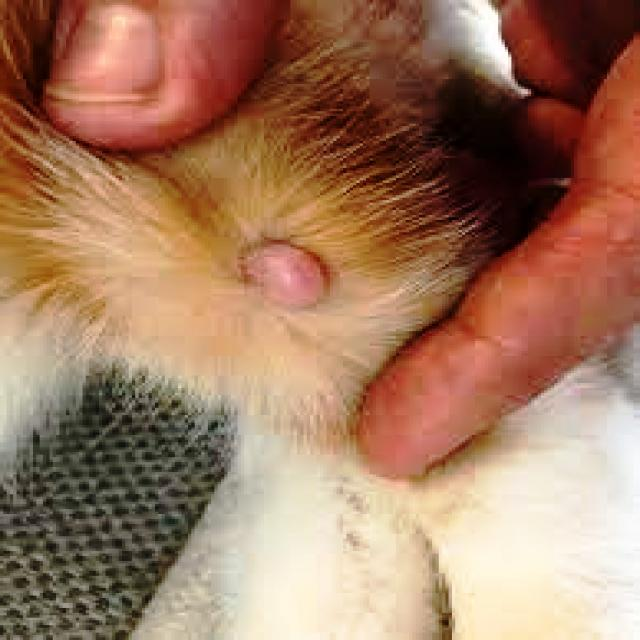lump_and_bump: (244, 238, 326, 311)
